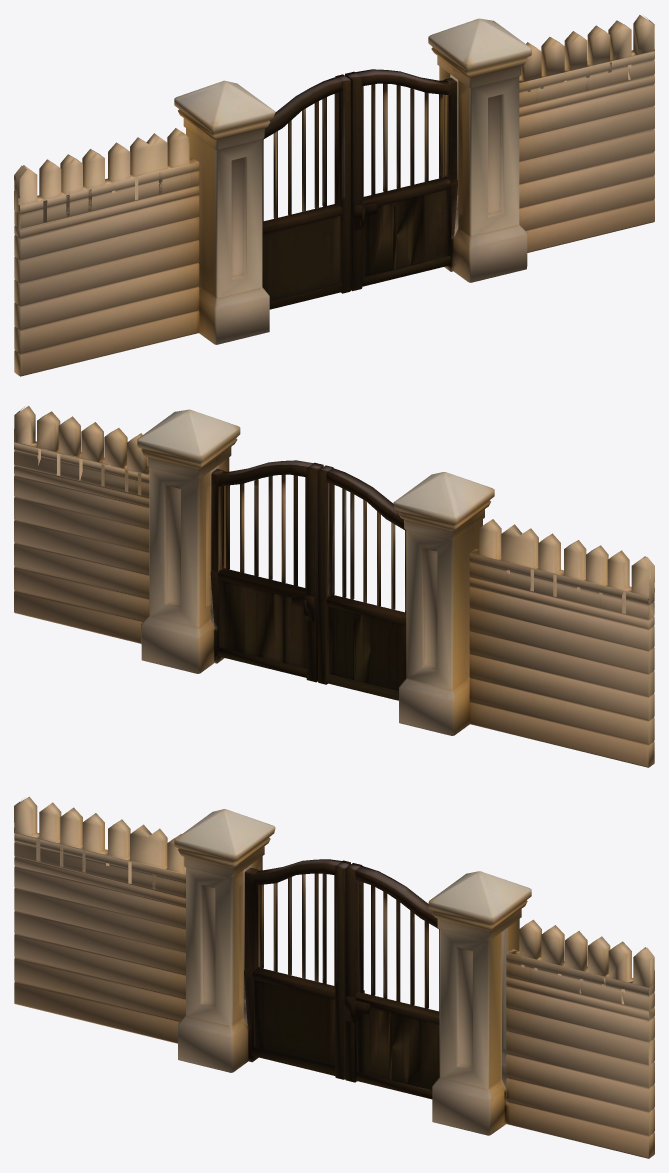
File: Outdoor__palisade_wall_and_gate_dd2bc927_v4.cluster.glb
3 renders of one model, top to bottom at view 1: azimuth 30°, elevation 25°; view 2: azimuth 150°, elevation 25°; view 3: azimuth 330°, elevation 25°, orthographic.
Visible parts, largest first — view 1: material; view 2: material; view 3: material.
Boxes of the visible parts, x1=… form: material: x1=14, y1=15, x2=654, y2=376; material: x1=14, y1=406, x2=654, y2=767; material: x1=14, y1=796, x2=654, y2=1158.
Bounding box in the file's own units: 1.9 × 0.6932 × 0.2051.
Materials: 1 (1 with a texture image).
